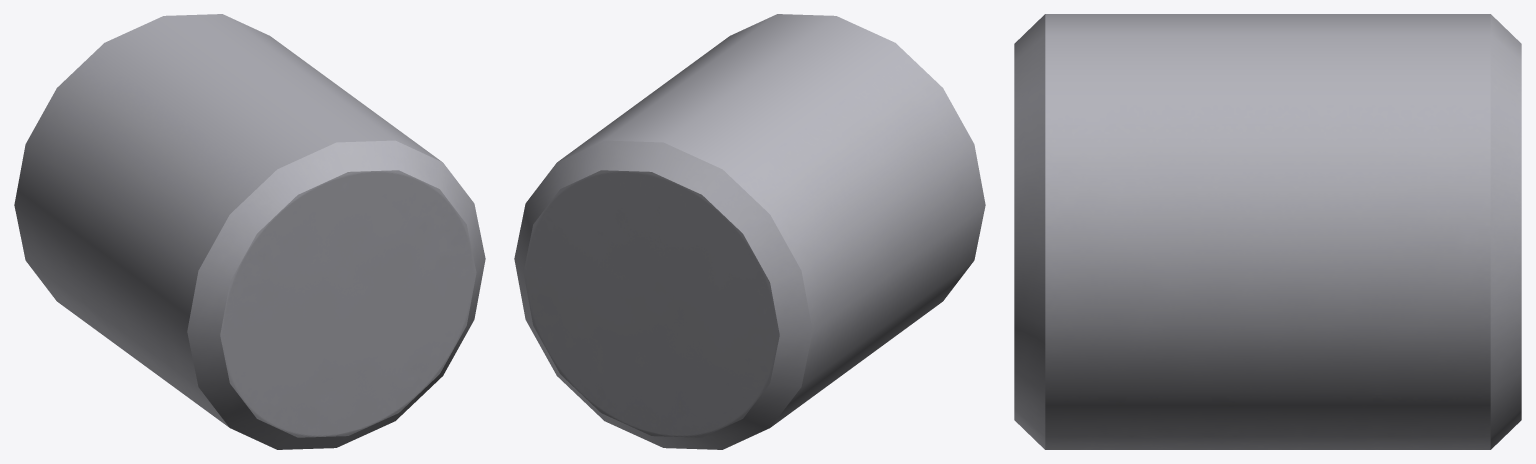
The model's file is Overdot.FBX.
3 renders of one model, left to right at view 1: azimuth 30°, elevation 25°; view 2: azimuth 150°, elevation 25°; view 3: azimuth 270°, elevation 25°, orthographic. The views are drawn at different scales.
Parts seen in each view (by area): view 1: Overdot; view 2: Overdot; view 3: Overdot.
Boxes of the visible parts, x1,y1,x2,y2 form: Overdot: [14, 14, 485, 449]; Overdot: [514, 14, 985, 449]; Overdot: [1014, 14, 1521, 449].
Size of the model in its own units: 28.9 by 28.28 by 33.
